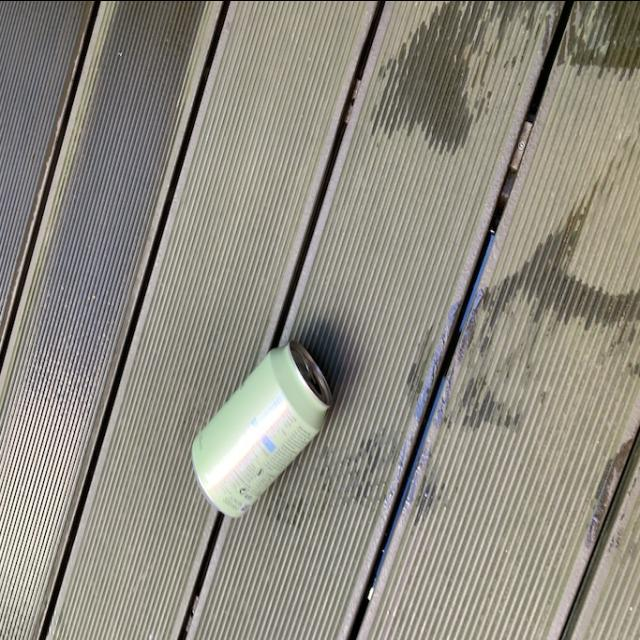Aluminum Can: (186, 332, 334, 522)
